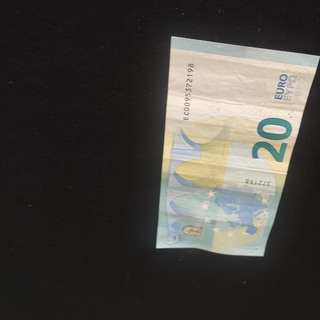20EUROBack: (155, 35, 320, 256)
